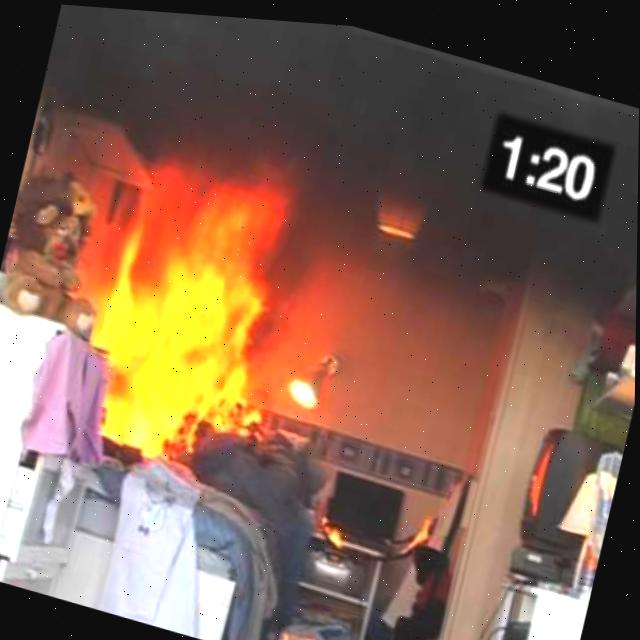fire: (37, 101, 288, 453)
smoke: (43, 4, 639, 459)
